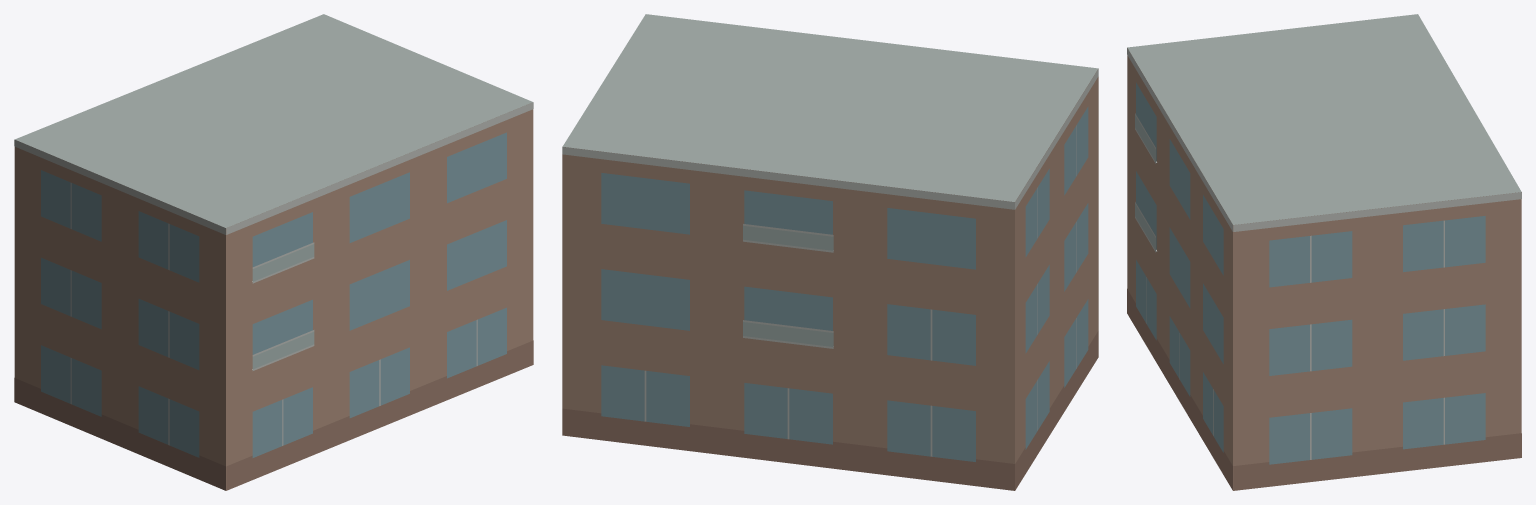
The model's file is survey-upis-32762058.glb.
3 views of the same model, side by side, from view 1: azimuth 30°, elevation 25°; view 2: azimuth 150°, elevation 25°; view 3: azimuth 270°, elevation 25° (orthographic). The views are drawn at different scales.
Parts seen in each view (by area): view 1: survey-upis-32762058.tmp; view 2: survey-upis-32762058.tmp; view 3: survey-upis-32762058.tmp.
Boxes of the visible parts, x1,y1,x2,y2 form: survey-upis-32762058.tmp: (14, 14, 533, 490); survey-upis-32762058.tmp: (562, 14, 1098, 490); survey-upis-32762058.tmp: (1127, 14, 1521, 490).
Bounding box in the file's own units: 15.59 × 9.15 × 12.32.
